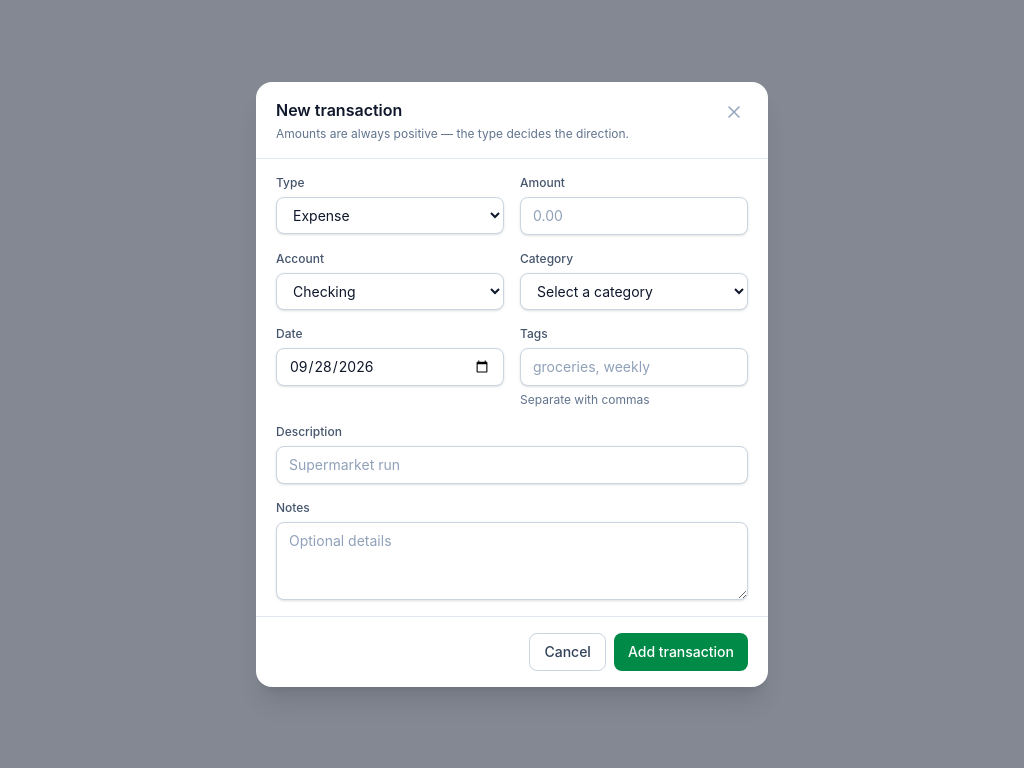
Scenario: TransactionForm validation › requires an amount, description and category
The image size is (1024, 768).
What coordinates should you click on to do the following:
click the button "Add transaction"
I would click on:
 (681, 652)
Its box is [614,632,748,670].
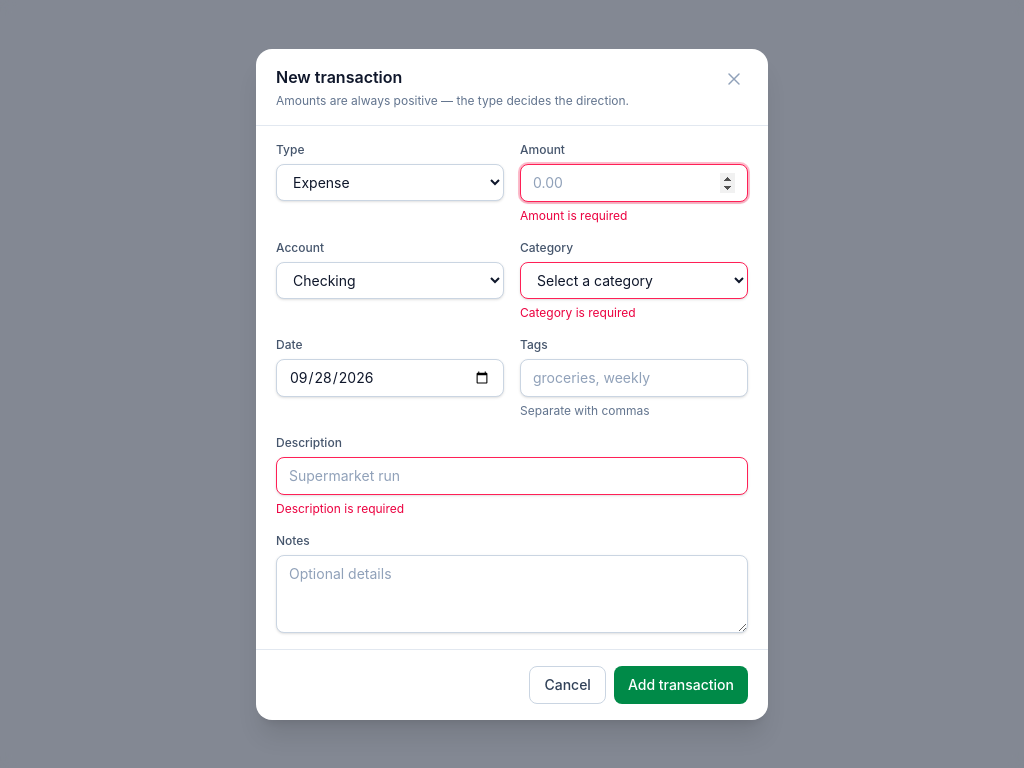
Check: the text "Amount is required" is shown, box [520,208,627,222]
Check: the text "Description is required" is shown, box [276,500,404,516]
Check: the text "Category is required" is shown, box [520,304,636,320]
